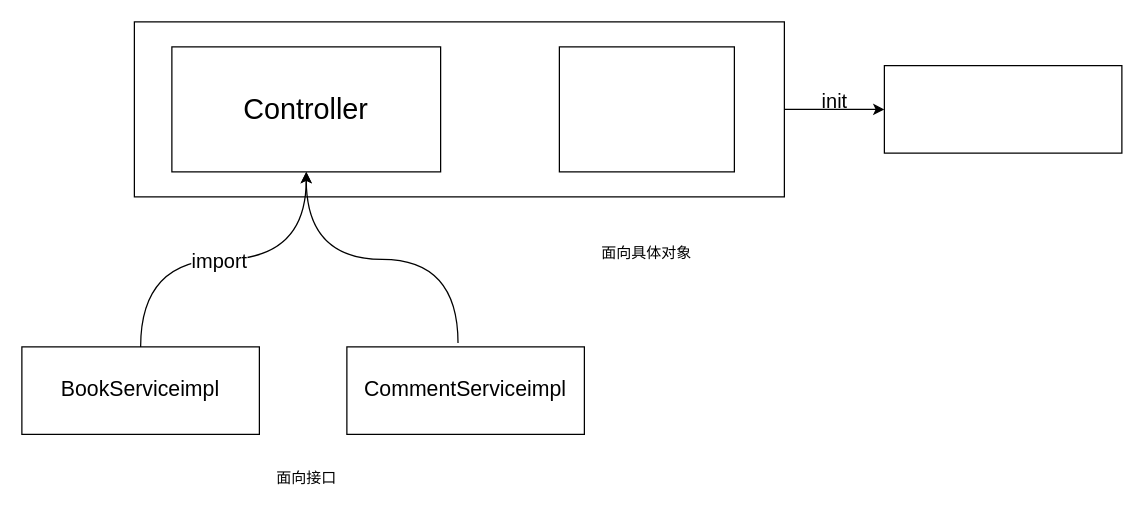
This 1144x519 diagram has some shape labels left out. The centre of each missing label's shape, as x and y in pixels:
application.toml: (x=1002, y=108)
config: (x=646, y=109)
